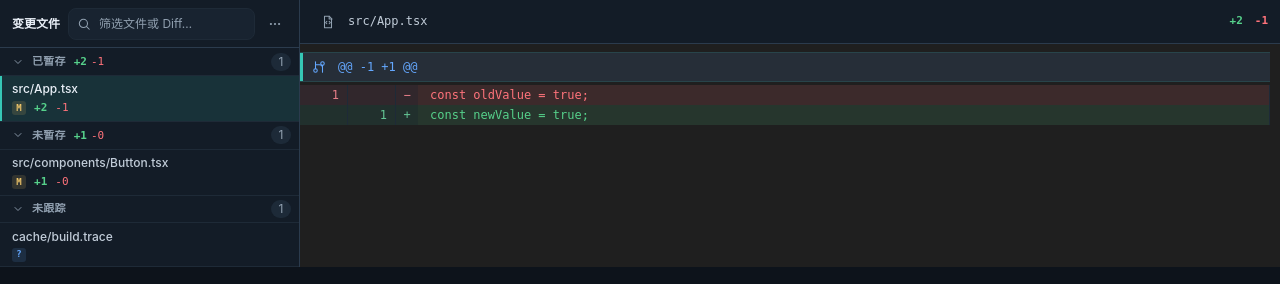
Test: DiffWorkspace › offers history for tracked files and scoped ignore previews only for untracked files
Right-click the element with class "diff-workspace-file" that starts with "src/components/Button.tsx" at (150, 172), box x1=0 y1=150 x2=299 y2=195
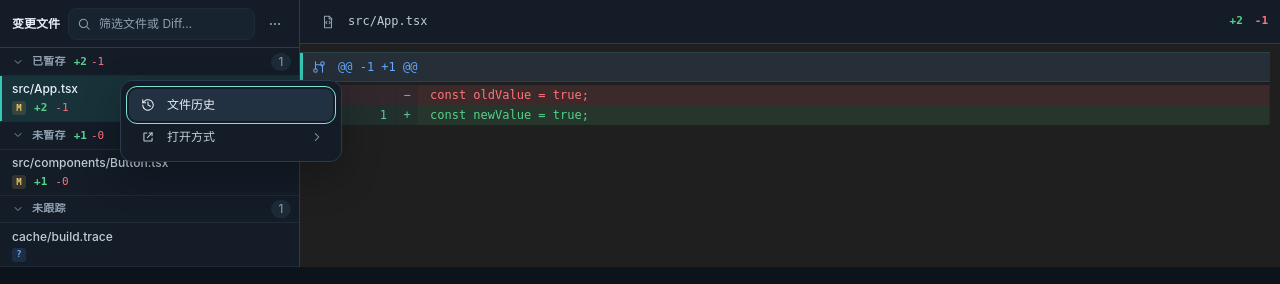
expect the element with class "change-file-context-menu" does not show "忽略此文件": met
Click the menu item "文件历史" at (231, 105), box x1=129 y1=89 x2=333 y2=121
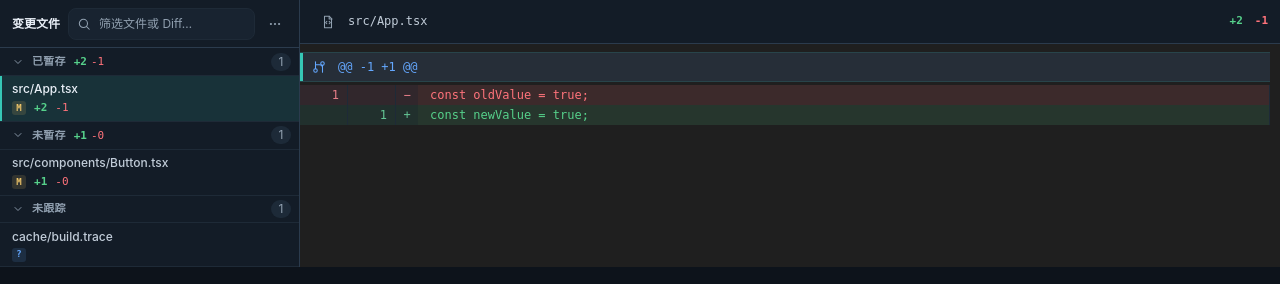
Right-click the element with class "diff-workspace-file" showing "cache/build.trace ?" at (150, 245), box x1=0 y1=223 x2=299 y2=267
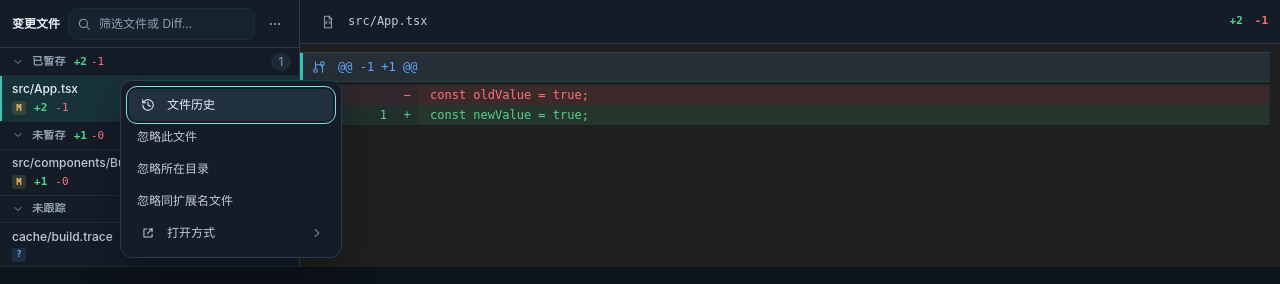
Click the menu item "忽略所在目录" at (231, 169), box x1=129 y1=153 x2=333 y2=185
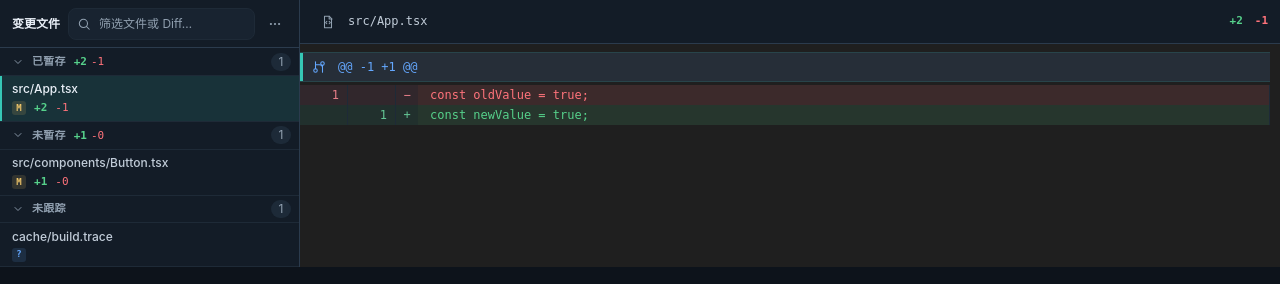
expect the menu with class "change-file-context-menu" is gone: met
